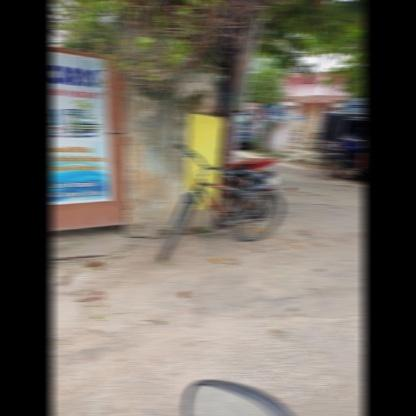Bicycle: (142, 131, 296, 278)
